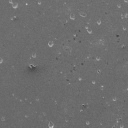corrosion: (83, 24, 94, 36), (27, 62, 38, 72), (9, 1, 21, 10), (46, 39, 56, 48), (68, 11, 76, 22), (28, 52, 39, 59), (115, 1, 123, 10), (79, 11, 88, 18), (96, 18, 103, 27), (85, 120, 92, 127), (91, 79, 97, 87), (76, 76, 83, 82), (111, 96, 117, 102), (95, 57, 101, 62)
